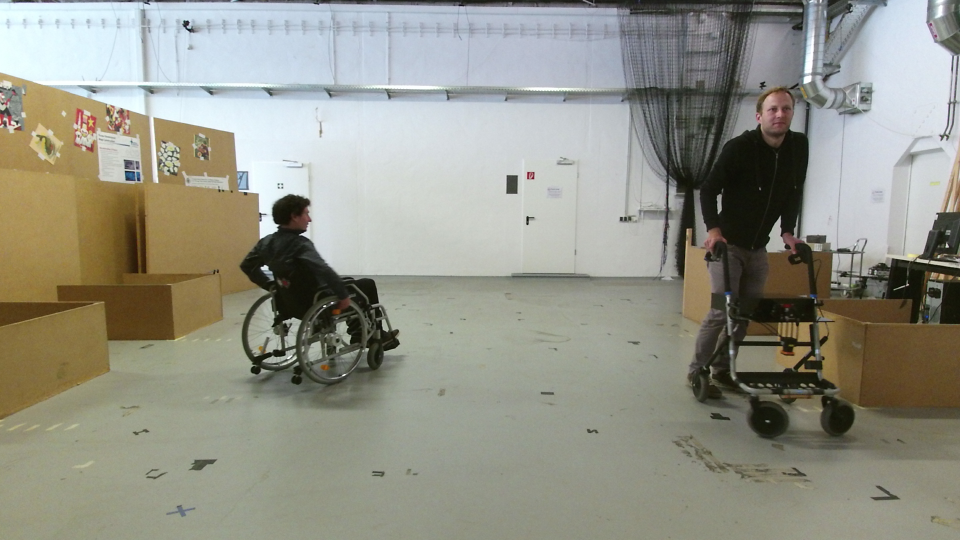wheelchair: (233, 187, 405, 395)
